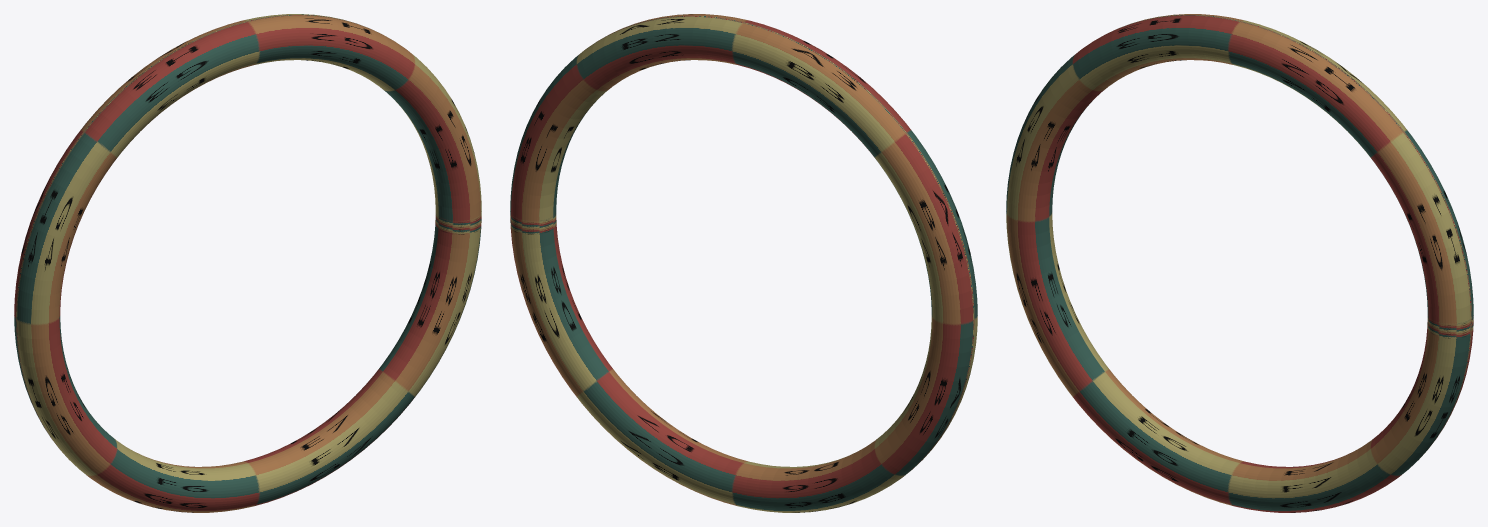
File: texture_torus_R5_r0.glb
The picture shows the model from 3 angles, left to right: view 1: azimuth 30°, elevation 25°; view 2: azimuth 150°, elevation 25°; view 3: azimuth 330°, elevation 25°; orthographic projection.
Visible parts, largest first — view 1: world; view 2: world; view 3: world.
Part boxes in pixels (bbox=[...]): world: bbox=[14, 14, 481, 512]; world: bbox=[510, 14, 977, 512]; world: bbox=[1006, 14, 1473, 512].
Size of the model in its own units: 23.11 by 23.11 by 2.
1 material, 1 textured.
